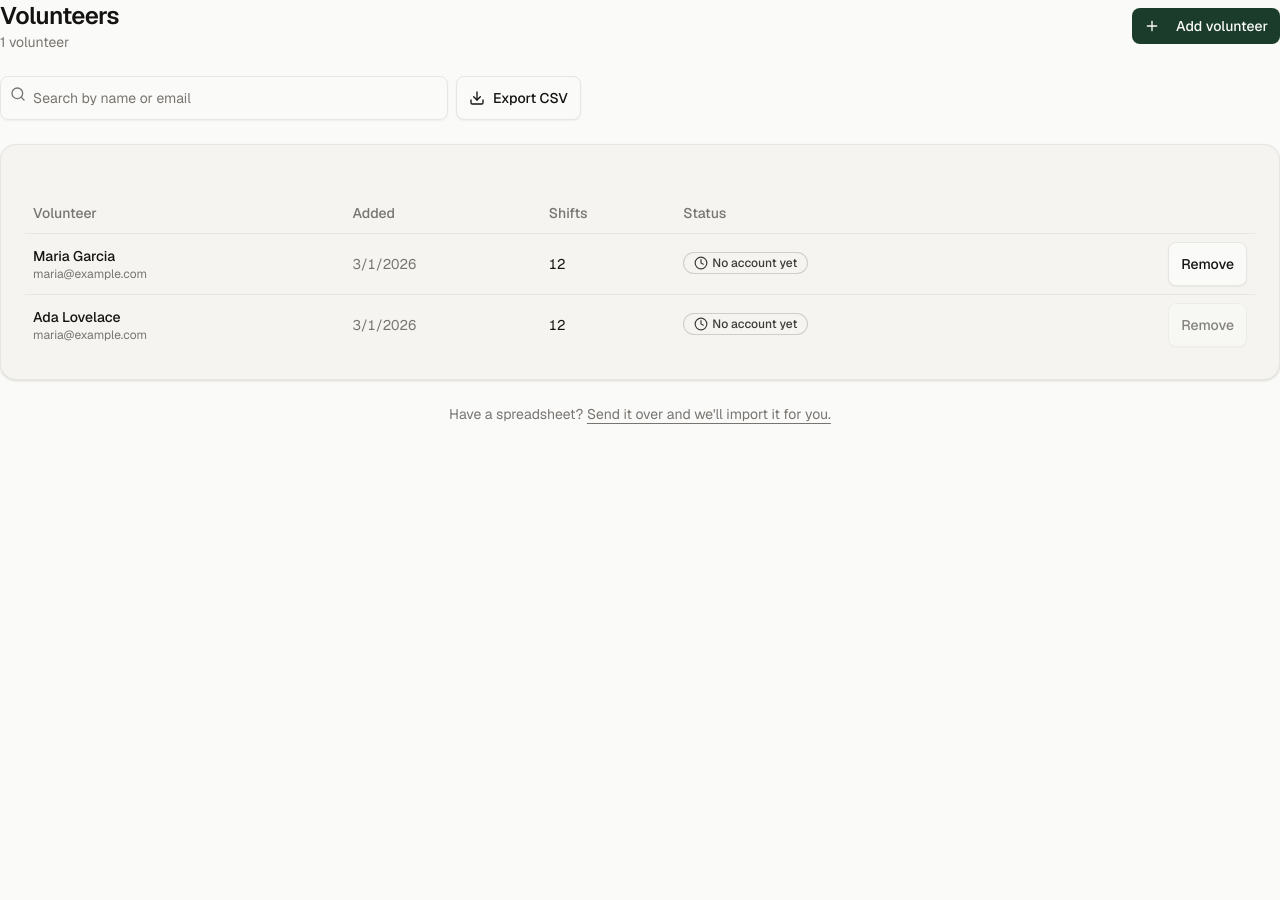
Test: VolunteersPage detail dialog (T27) › leaves the dialog’s Remove enabled while a DIFFERENT volunteer is removed
Click the button "Maria Garcia": [74, 256] box top-left (33, 246), bottom-right (115, 266)
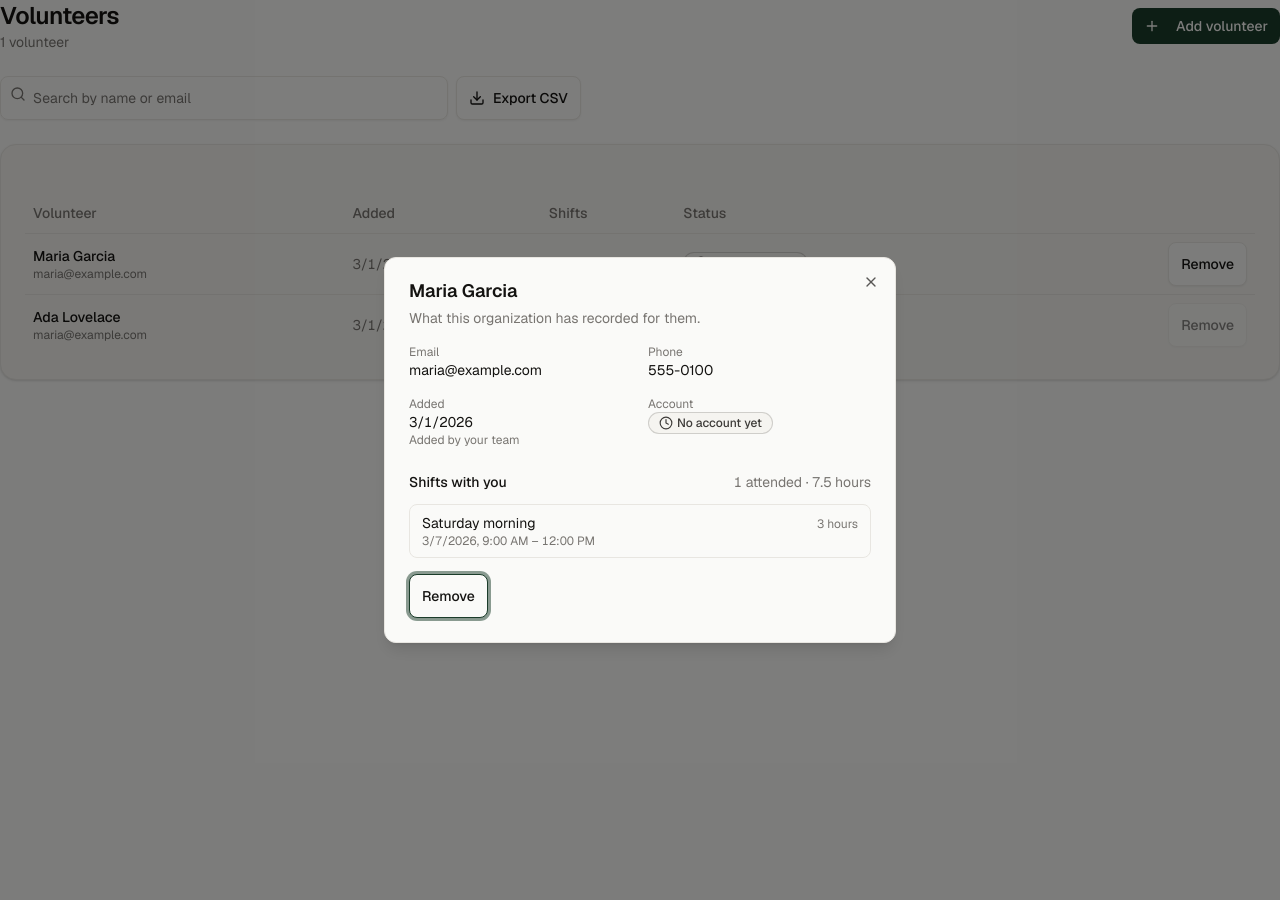
Expected: the button with aria-label "Remove Maria Garcia from your roster" is enabled, top-left (409, 574), bottom-right (488, 618)
